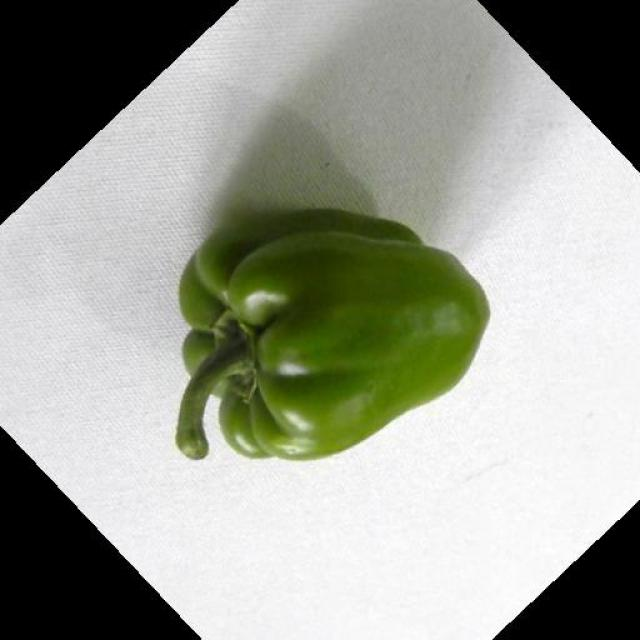Fresh_Capsicum: (133, 224, 534, 432)
